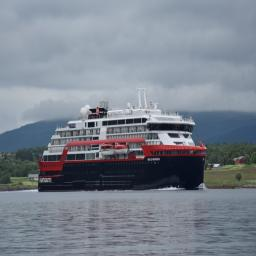cruises: (39, 82, 209, 195)
